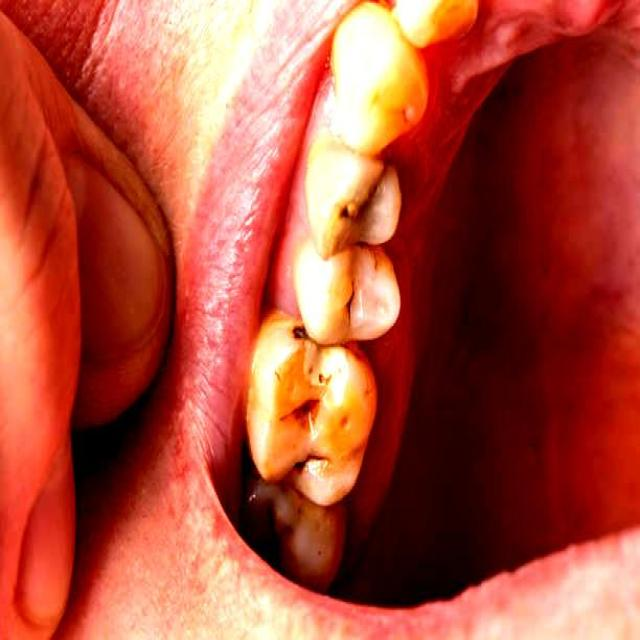caries: (278, 308, 332, 391), (330, 166, 386, 236), (274, 390, 332, 446), (330, 269, 375, 337), (283, 447, 341, 495)
